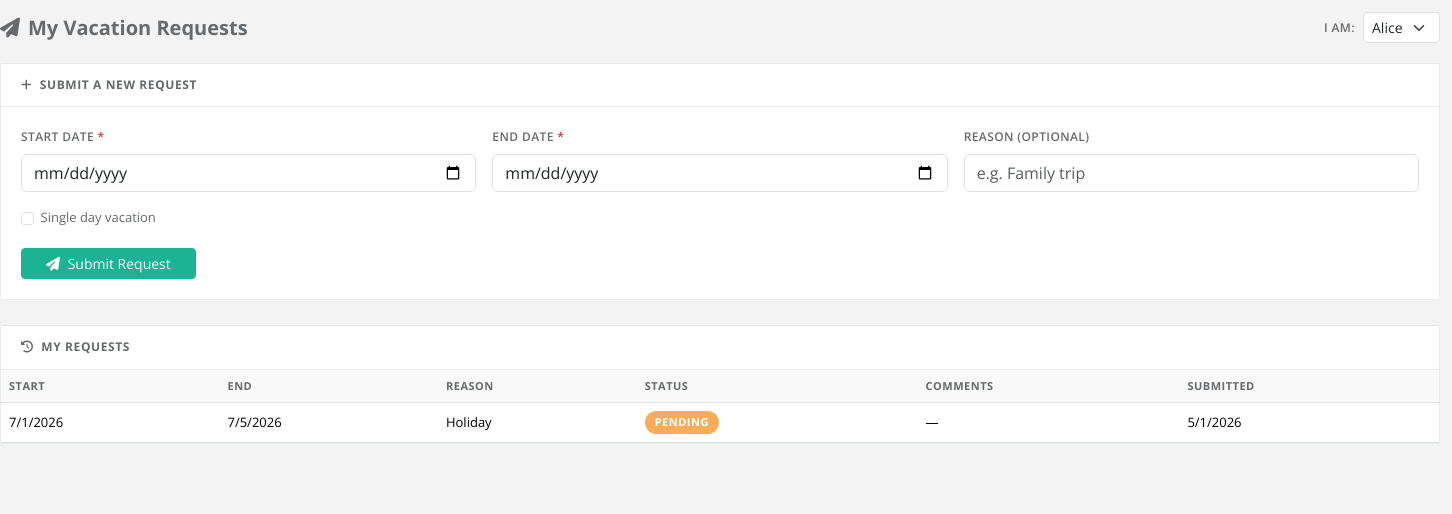
Test: RequesterView › shows validation error when endDate is before startDate
Type "2026-07-10" into the date field below "Start Date". click: (249, 173)
box: left=21, top=154, right=476, bottom=192
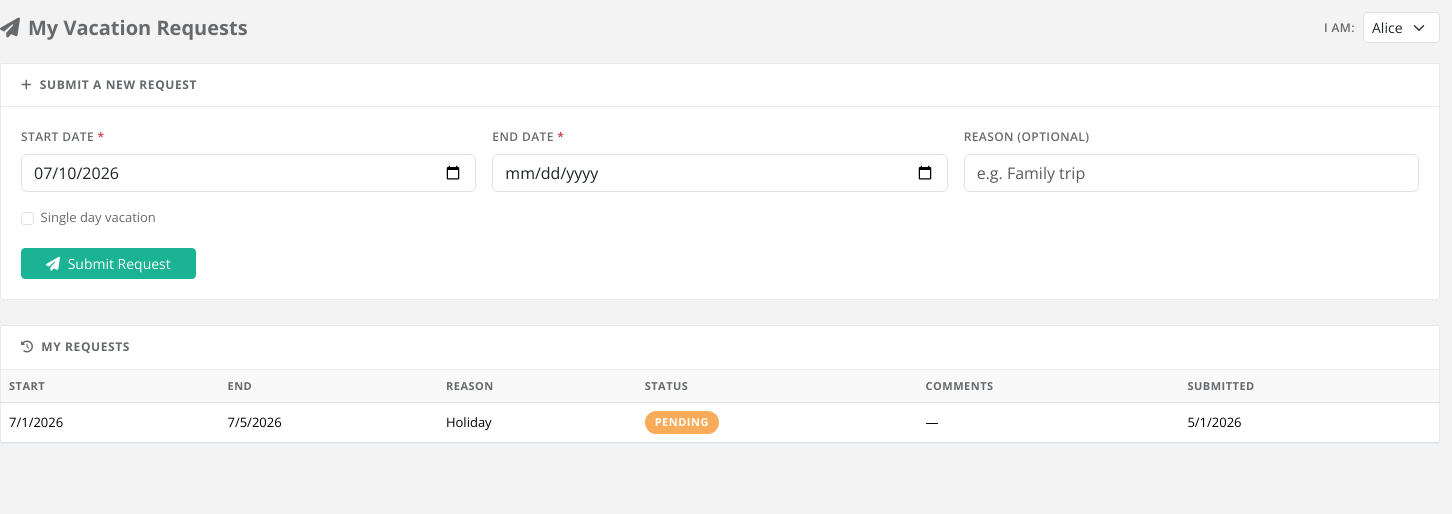
Type "2026-07-01" into the date field below "End Date". click: (720, 173)
box: left=492, top=154, right=948, bottom=192
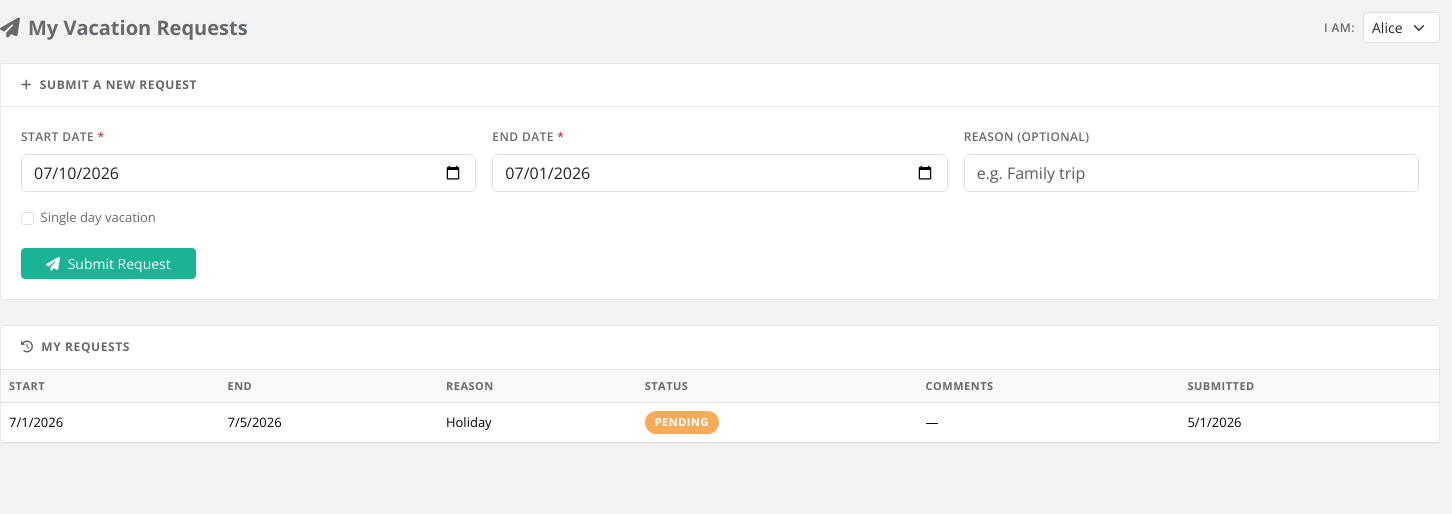
Submit the form, box left=21, top=111, right=1419, bottom=279
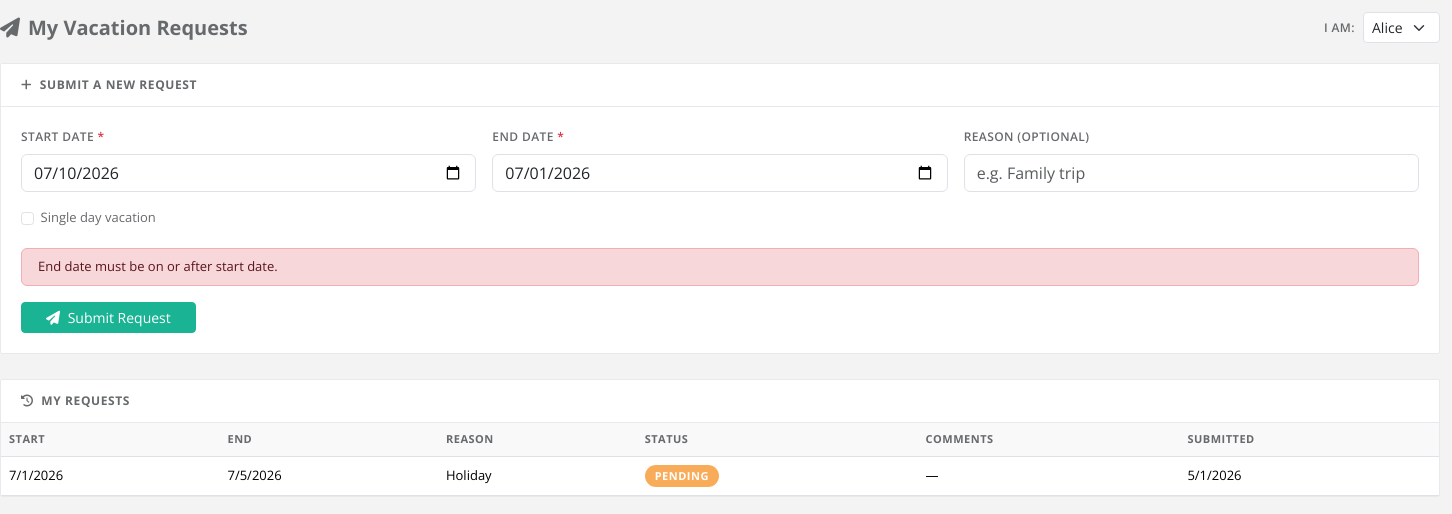
Expected: the text "End date must be on or after start date" is shown, left=38, top=257, right=278, bottom=275
